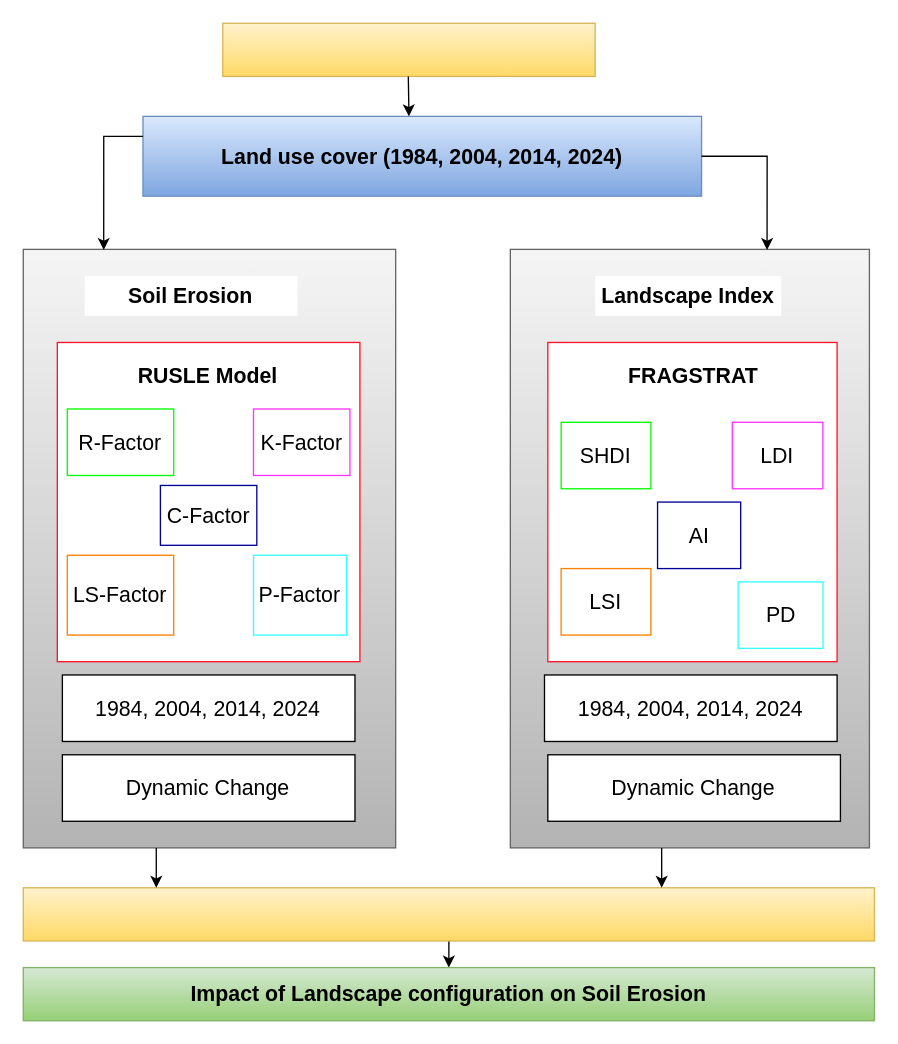
Some shapes in this 898 by 1044 pixel diagram are drawn without their labels. Here are the shapes that lost their labels. From the top down, the centre of each, then its label:
the point at 408,49: Satellite Image
the point at 448,913: Statistical Analysis
